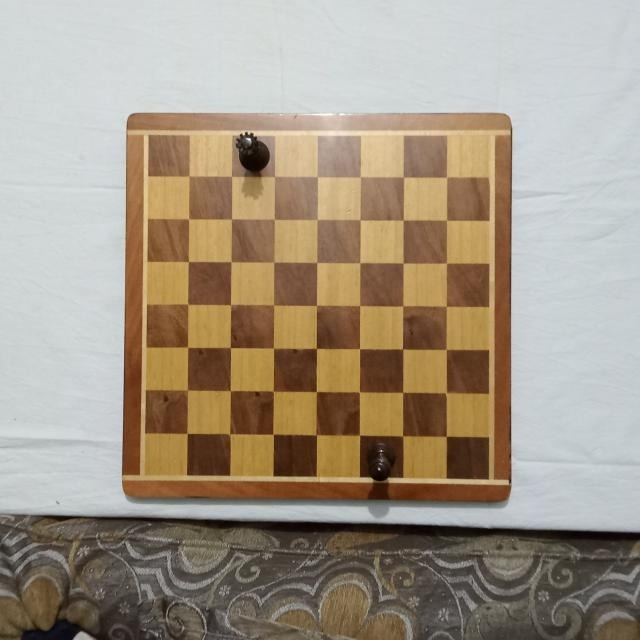black-king: (366, 443, 395, 483)
black-queen: (234, 130, 269, 174)
